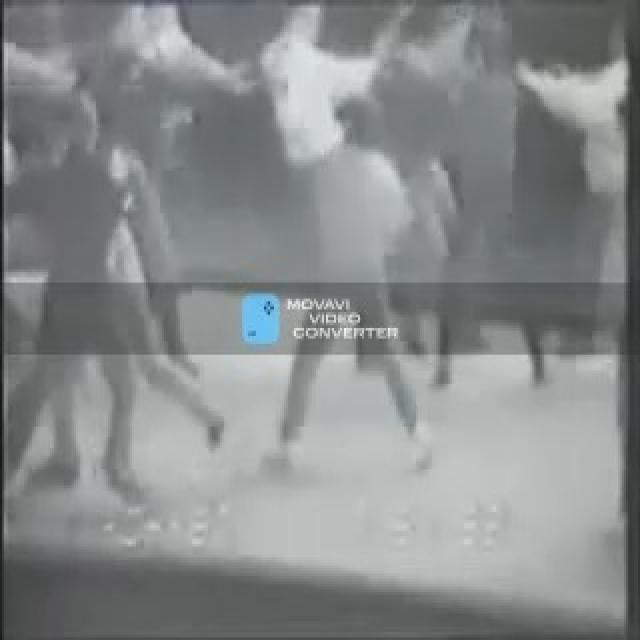non-voilence: (2, 0, 632, 531), (2, 67, 224, 514), (264, 91, 434, 472)
